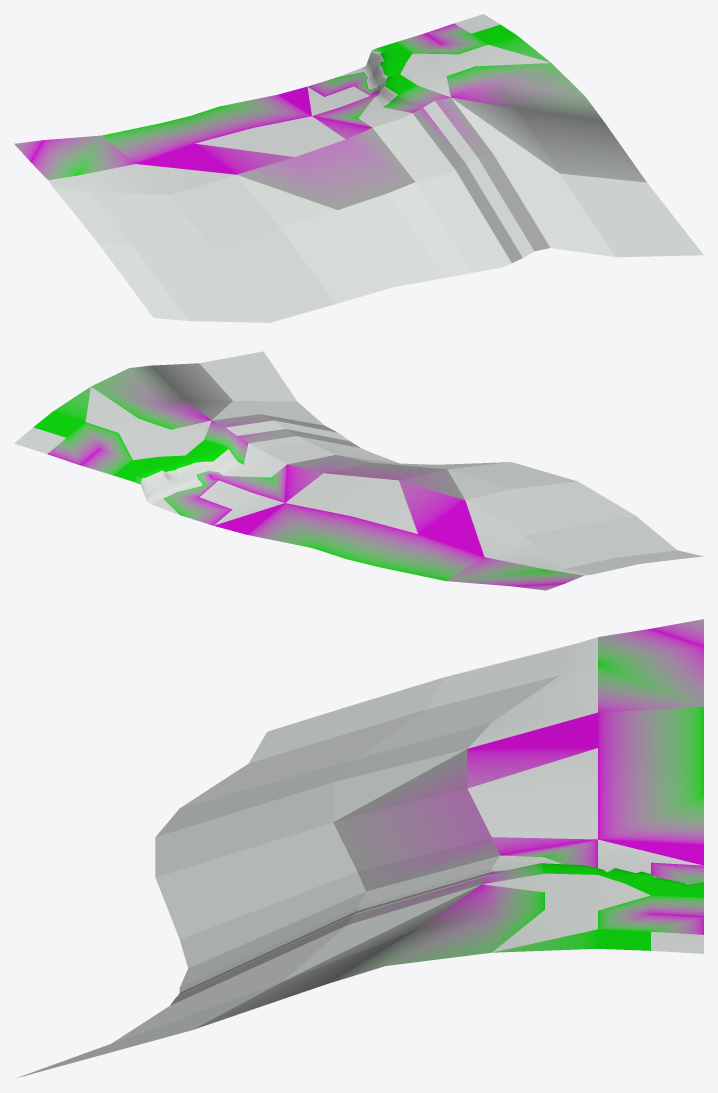
The picture shows the model from 3 angles, top to bottom: view 1: azimuth 30°, elevation 25°; view 2: azimuth 150°, elevation 25°; view 3: azimuth 270°, elevation 25°; orthographic projection. The views are drawn at different scales.
Visible parts, largest first — view 1: G:\FFXIV-MapTools\exports\f1f1\bg\ffxiv\fst_f1\fld\f1f1\bgpl (×7); view 2: G:\FFXIV-MapTools\exports\f1f1\bg\ffxiv\fst_f1\fld\f1f1\bgpl (×8); view 3: G:\FFXIV-MapTools\exports\f1f1\bg\ffxiv\fst_f1\fld\f1f1\bgpl (×4).
Part boxes in pixels (<box>): G:\FFXIV-MapTools\exports\f1f1\bg\ffxiv\fst_f1\fld\f1f1\bgpl (×7): <box>14,14,703,322</box>; G:\FFXIV-MapTools\exports\f1f1\bg\ffxiv\fst_f1\fld\f1f1\bgpl (×8): <box>14,351,703,590</box>; G:\FFXIV-MapTools\exports\f1f1\bg\ffxiv\fst_f1\fld\f1f1\bgpl (×4): <box>16,619,703,1078</box>.
Size of the model in its own units: 128 by 25.66 by 104.
